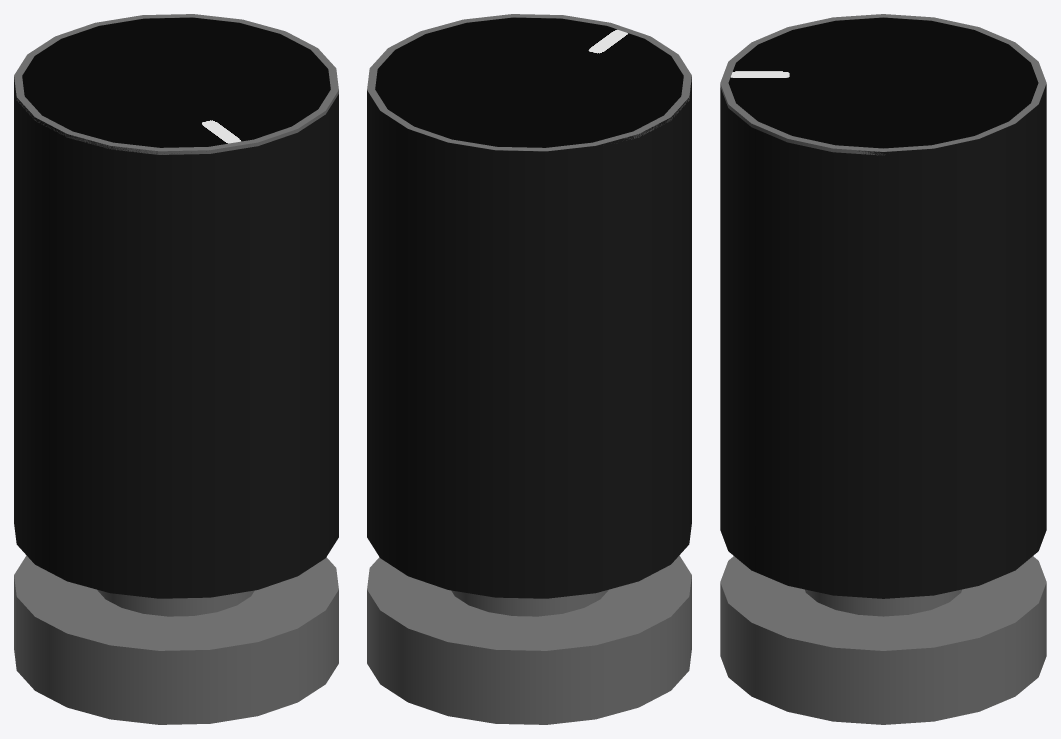
Rendered from RotationKnob1.fbx.
The picture shows the model from 3 angles, left to right: view 1: azimuth 30°, elevation 25°; view 2: azimuth 150°, elevation 25°; view 3: azimuth 270°, elevation 25°; orthographic projection.
Parts seen in each view (by area): view 1: knob, bottomBase, silverRing, baseConnection; view 2: knob, bottomBase, silverRing, baseConnection; view 3: knob, bottomBase, silverRing, baseConnection.
Part boxes in pixels (<box>): knob: <box>14,17,338,598</box>; bottomBase: <box>14,555,338,724</box>; silverRing: <box>14,14,338,154</box>; baseConnection: <box>97,589,254,616</box>; knob: <box>367,17,691,598</box>; bottomBase: <box>367,555,691,724</box>; silverRing: <box>367,14,691,151</box>; baseConnection: <box>451,589,608,616</box>; knob: <box>720,17,1046,598</box>; bottomBase: <box>720,556,1046,724</box>; silverRing: <box>720,14,1046,155</box>; baseConnection: <box>804,589,962,616</box>.
Size of the model in its own units: 4 by 7.75 by 4.
Materials: 3 (1 with a texture image).
